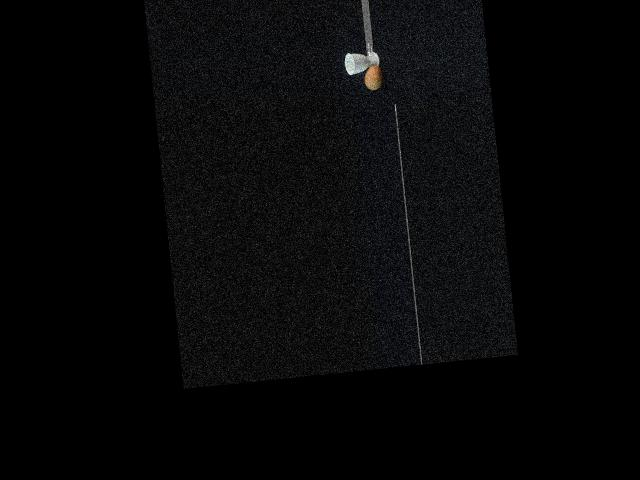egg: (363, 64, 383, 90)
